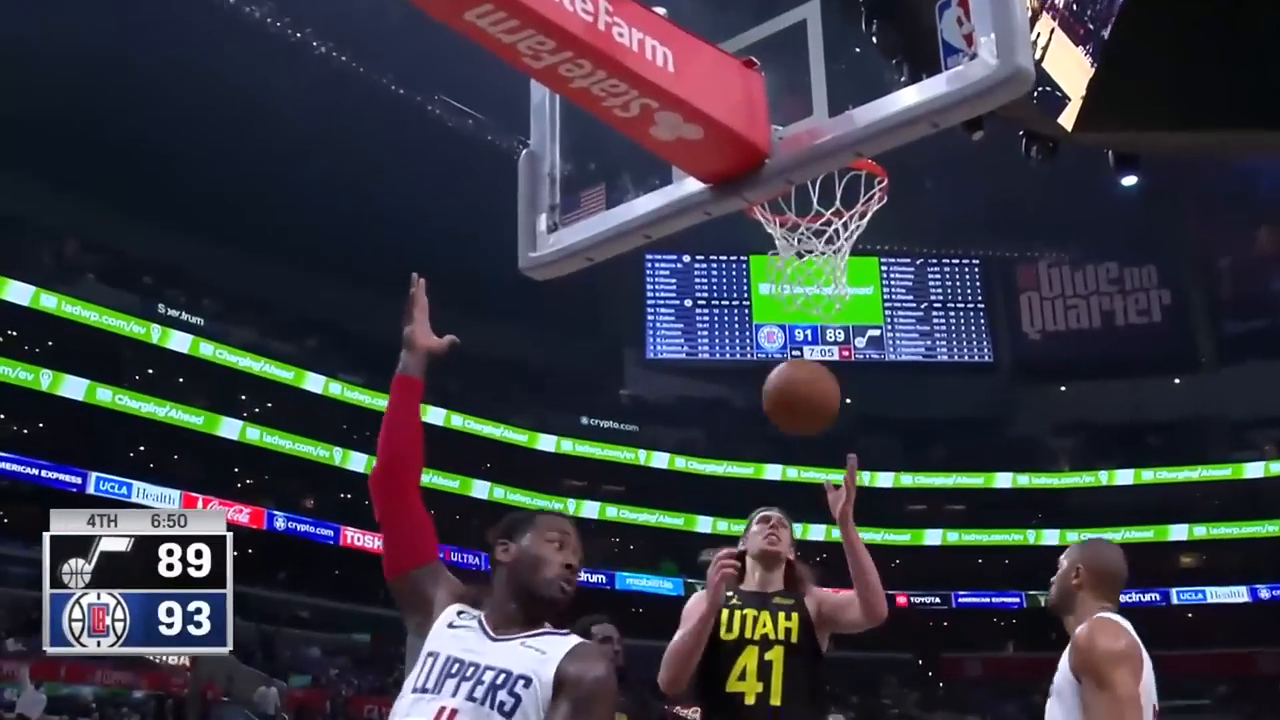ball: (756, 352, 849, 442)
net: (744, 147, 892, 311)
